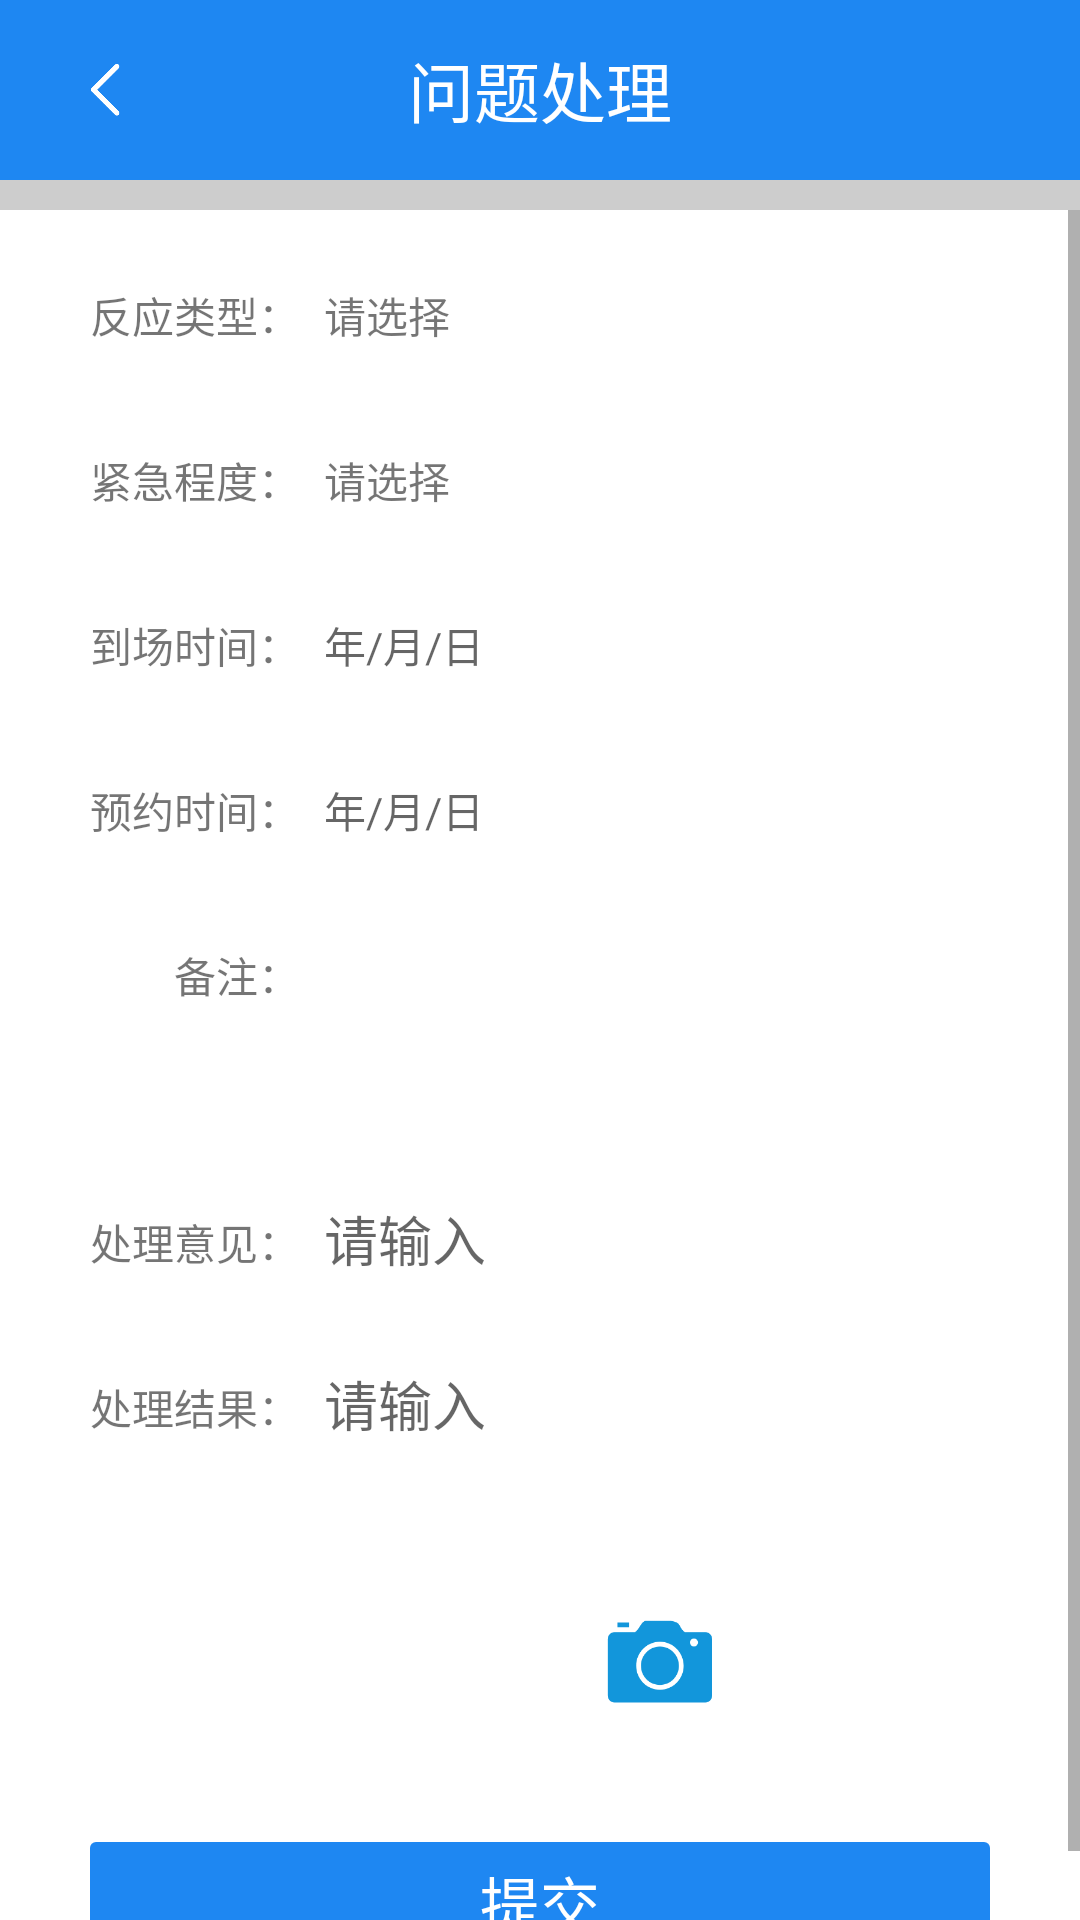

Icon click points for this 1080w x 1920h phone screenshot, format [x,y]:
back: [105,90]
photo: [659,1661]
